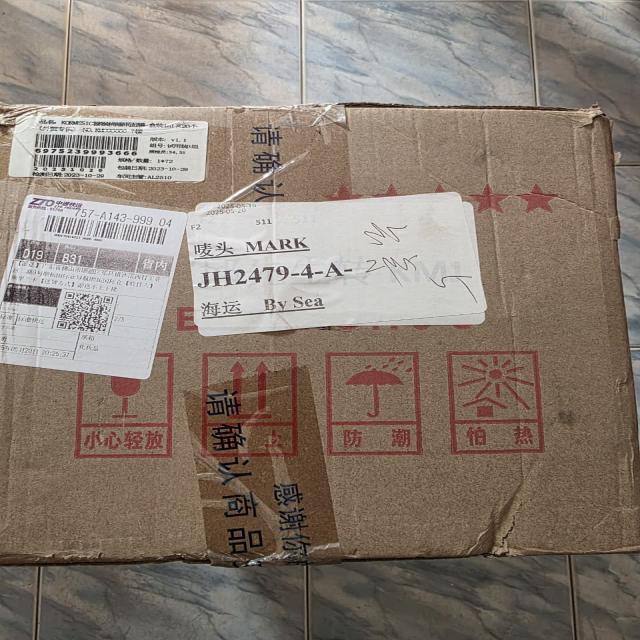carton_box: (1, 95, 640, 560)
export_mark_label: (185, 201, 521, 336), (0, 181, 187, 385), (2, 103, 236, 188)
fragile_label: (80, 358, 176, 466)
keep_dry_label: (314, 343, 446, 456)
protect_from_heat_label: (440, 348, 561, 461)
this_side_up_label: (183, 343, 307, 469)
